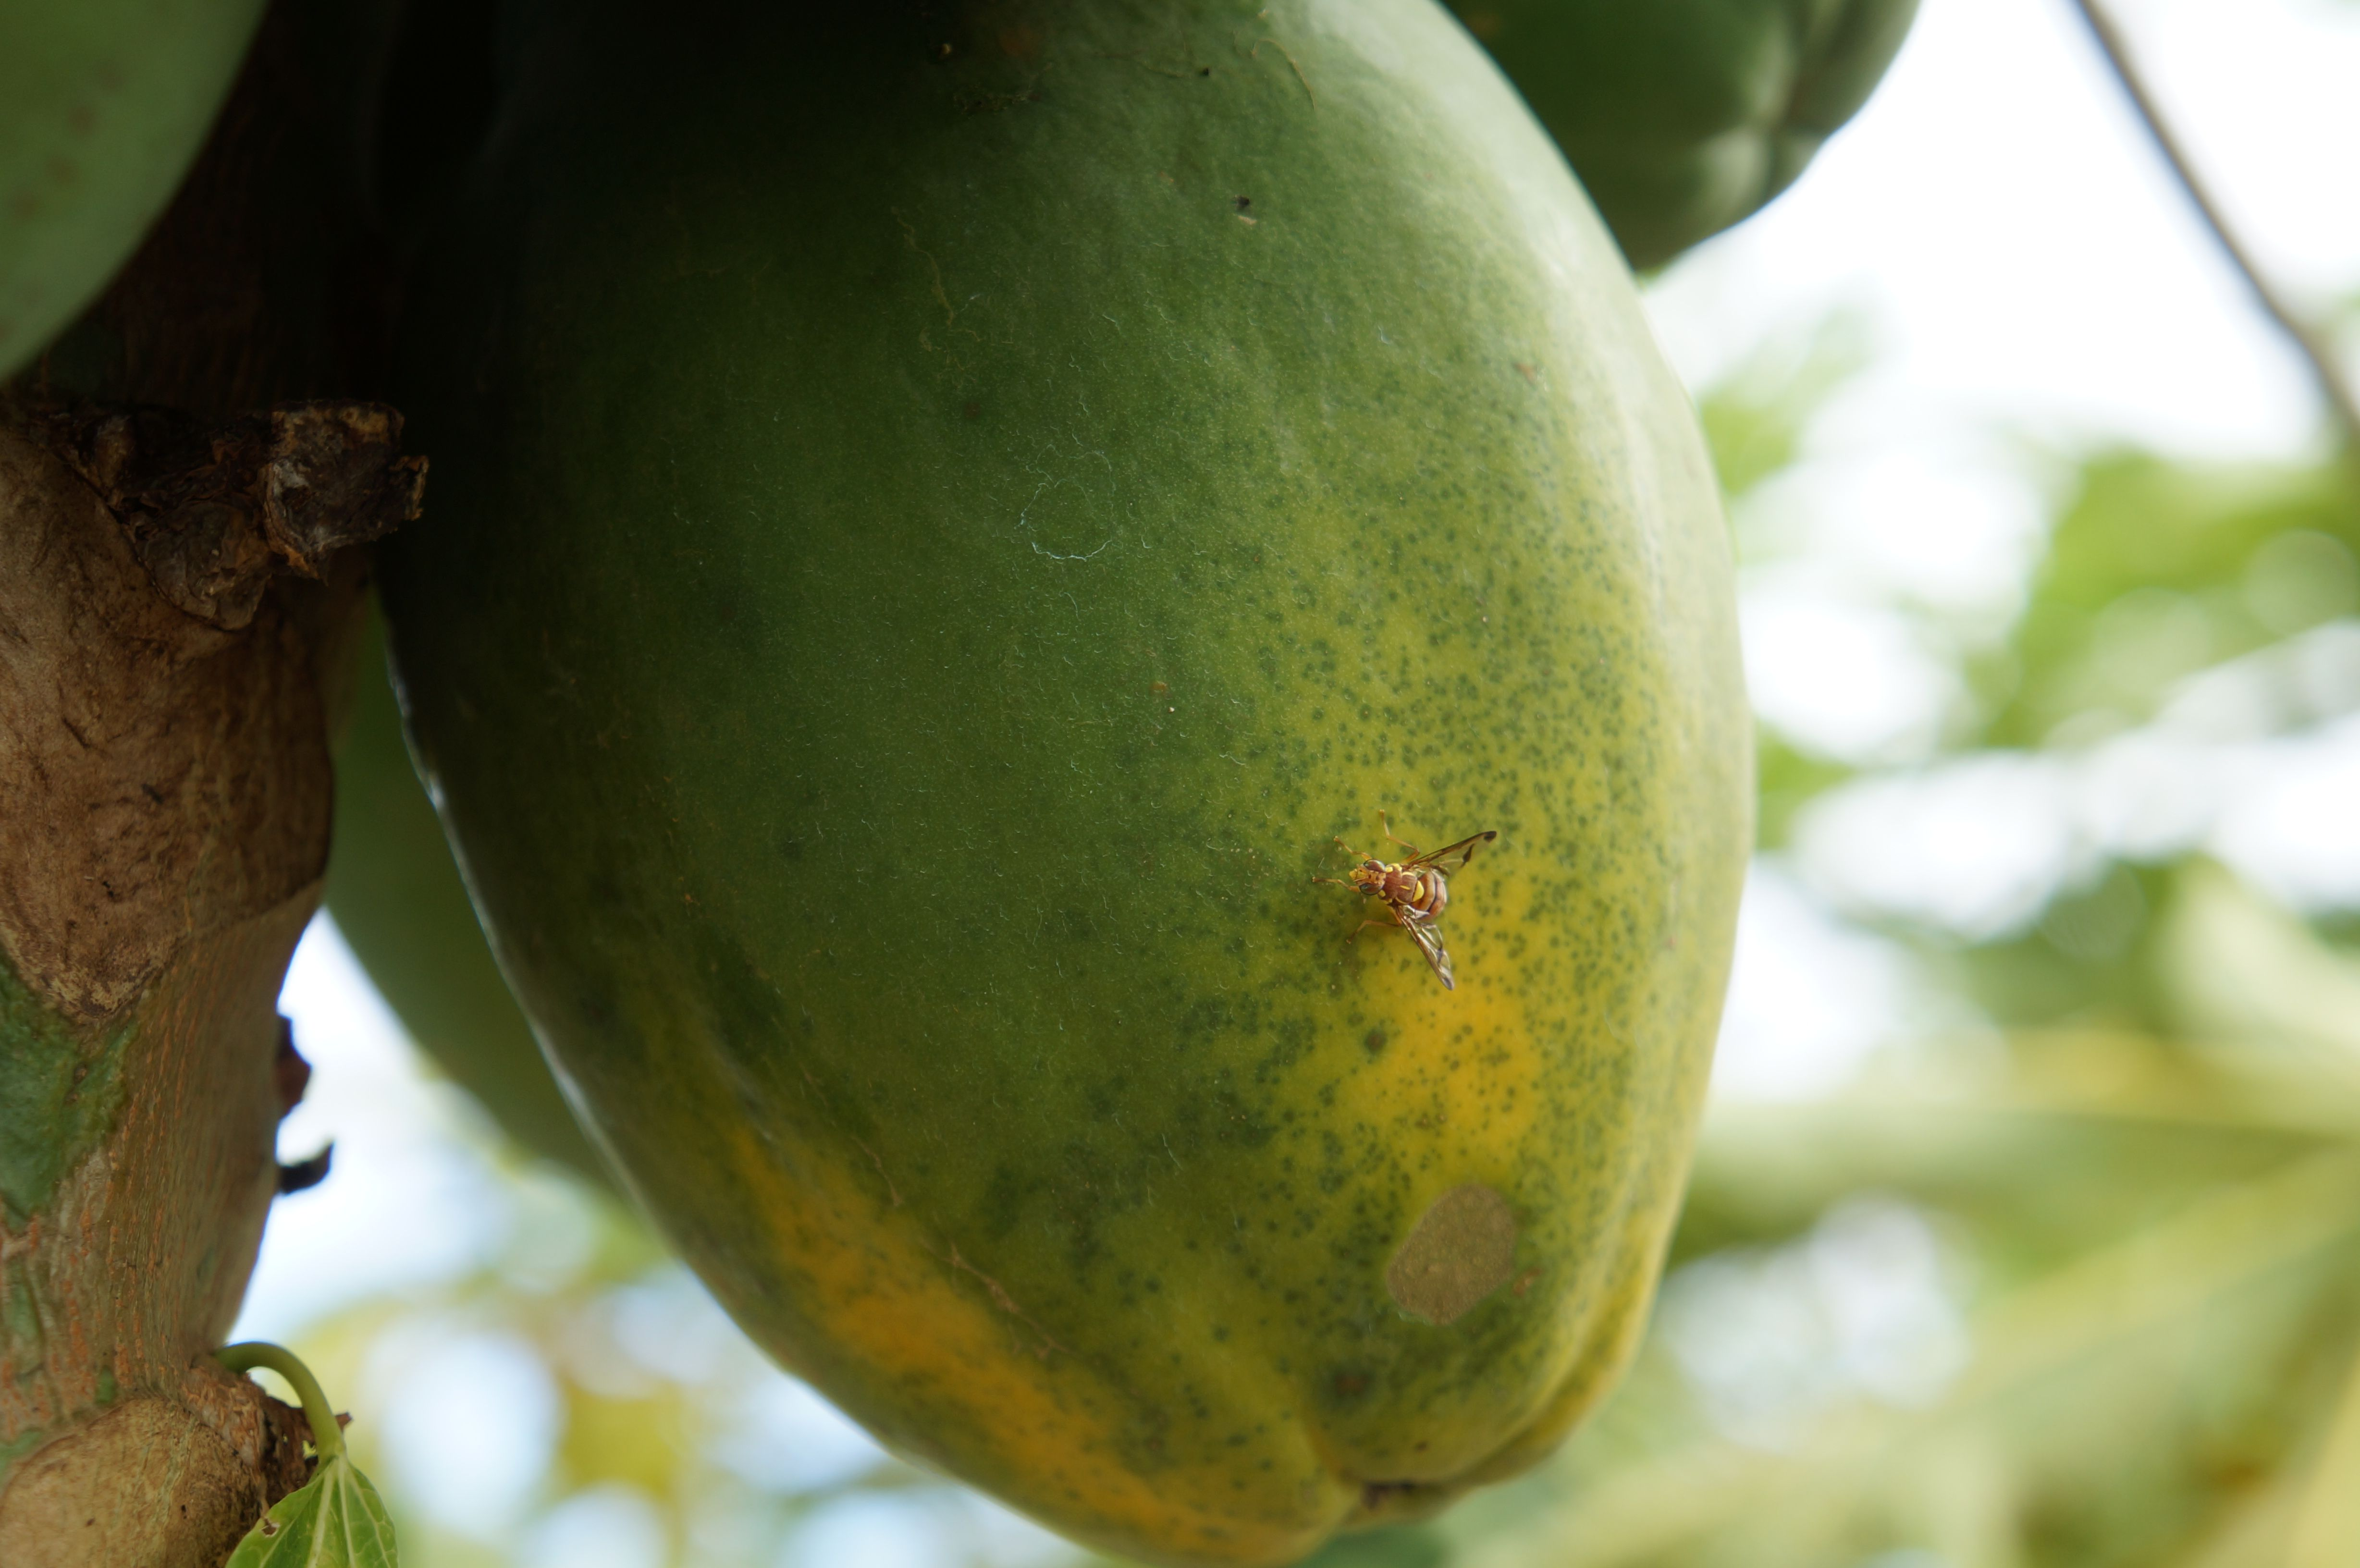Fruit fly: (1321, 779, 1492, 1064)
